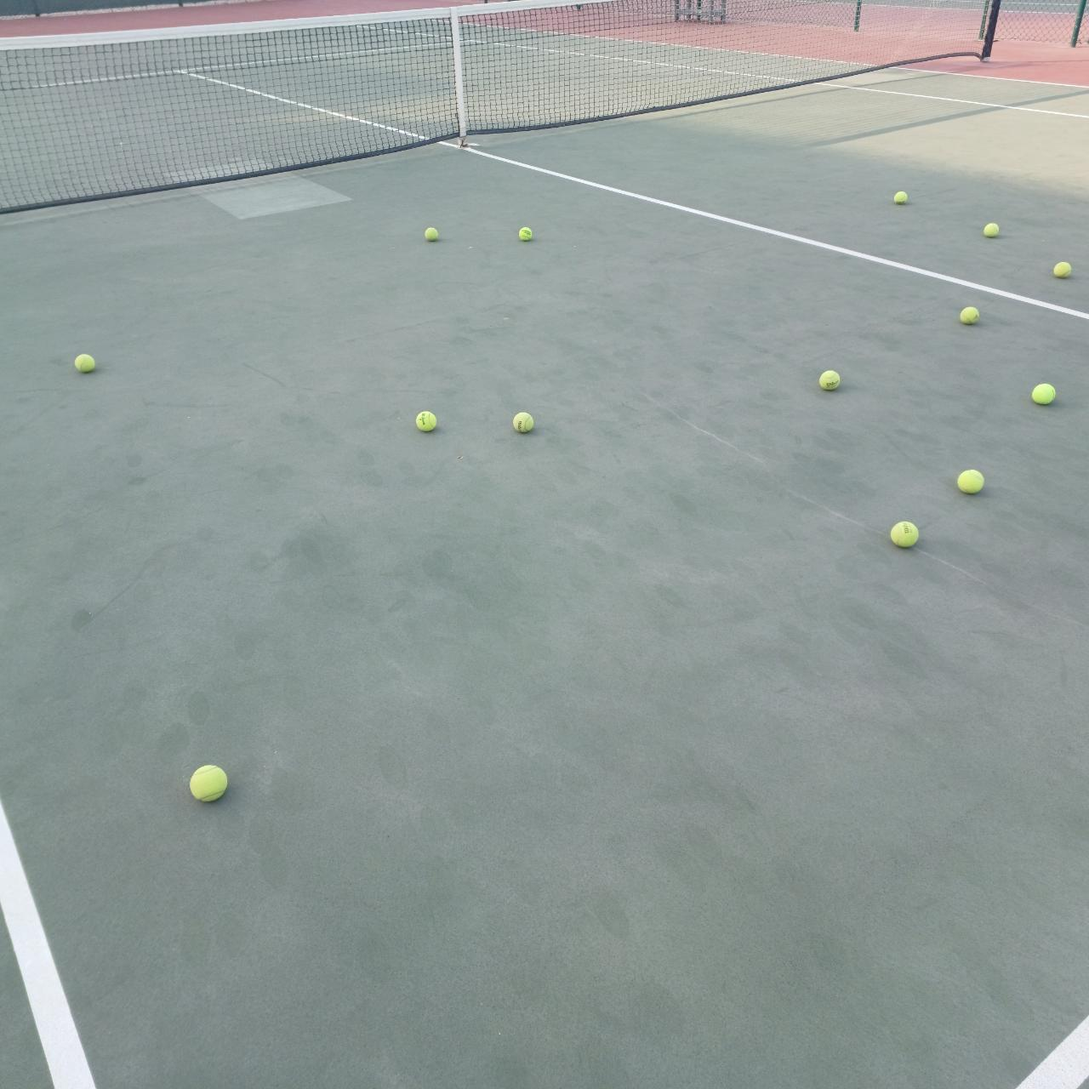tennis-ball: (188, 761, 228, 803), (888, 518, 919, 548), (955, 467, 984, 494), (1030, 381, 1055, 405), (817, 368, 841, 391), (413, 408, 436, 432), (510, 409, 533, 433), (73, 351, 95, 373), (958, 305, 978, 324), (1052, 259, 1071, 277), (982, 220, 999, 237), (516, 225, 532, 241), (423, 225, 439, 241), (892, 189, 908, 204)
